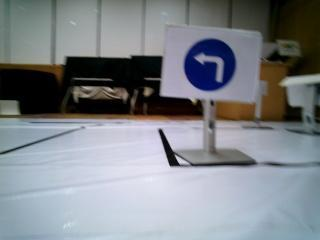left: (165, 30, 250, 97)
